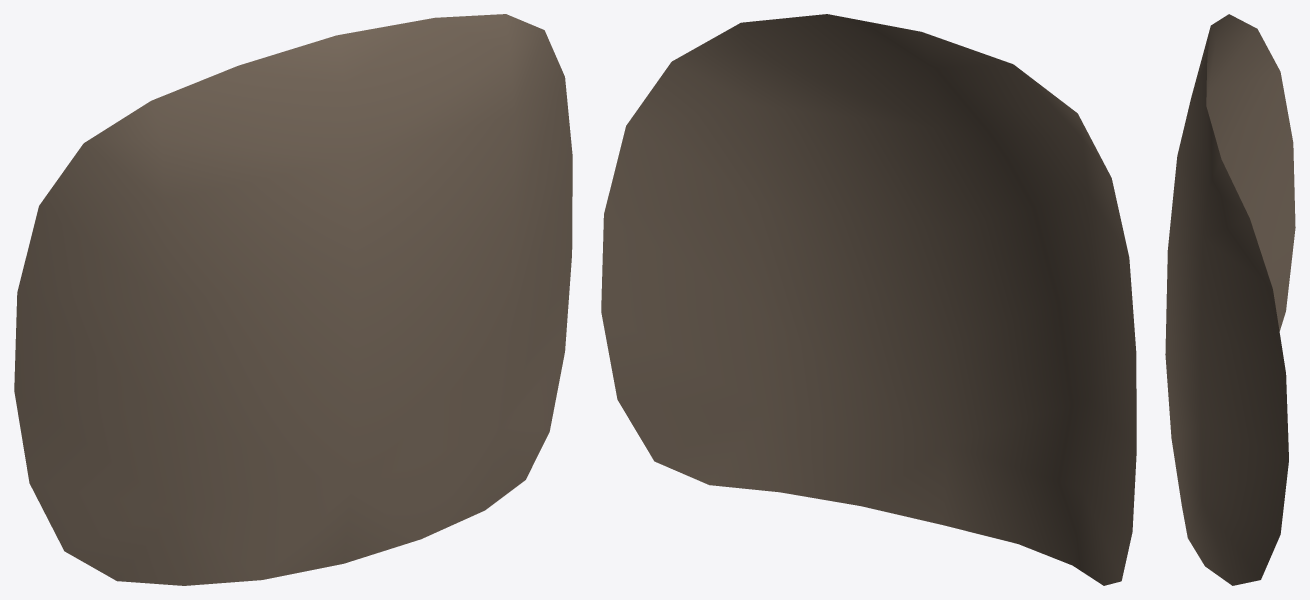
File: MD_nail_FootR.Little.fbx
3 renders of one model, left to right at view 1: azimuth 30°, elevation 25°; view 2: azimuth 150°, elevation 25°; view 3: azimuth 270°, elevation 25°, orthographic. The views are drawn at different scales.
Visible parts, largest first — view 1: MD_nail_FootR.Little; view 2: MD_nail_FootR.Little; view 3: MD_nail_FootR.Little.
Part boxes in pixels (bbox=[...]): MD_nail_FootR.Little: bbox=[14, 14, 572, 585]; MD_nail_FootR.Little: bbox=[601, 14, 1136, 585]; MD_nail_FootR.Little: bbox=[1165, 14, 1295, 585].
Bounding box in the file's own units: 0.5793 × 0.5153 × 0.1351.
